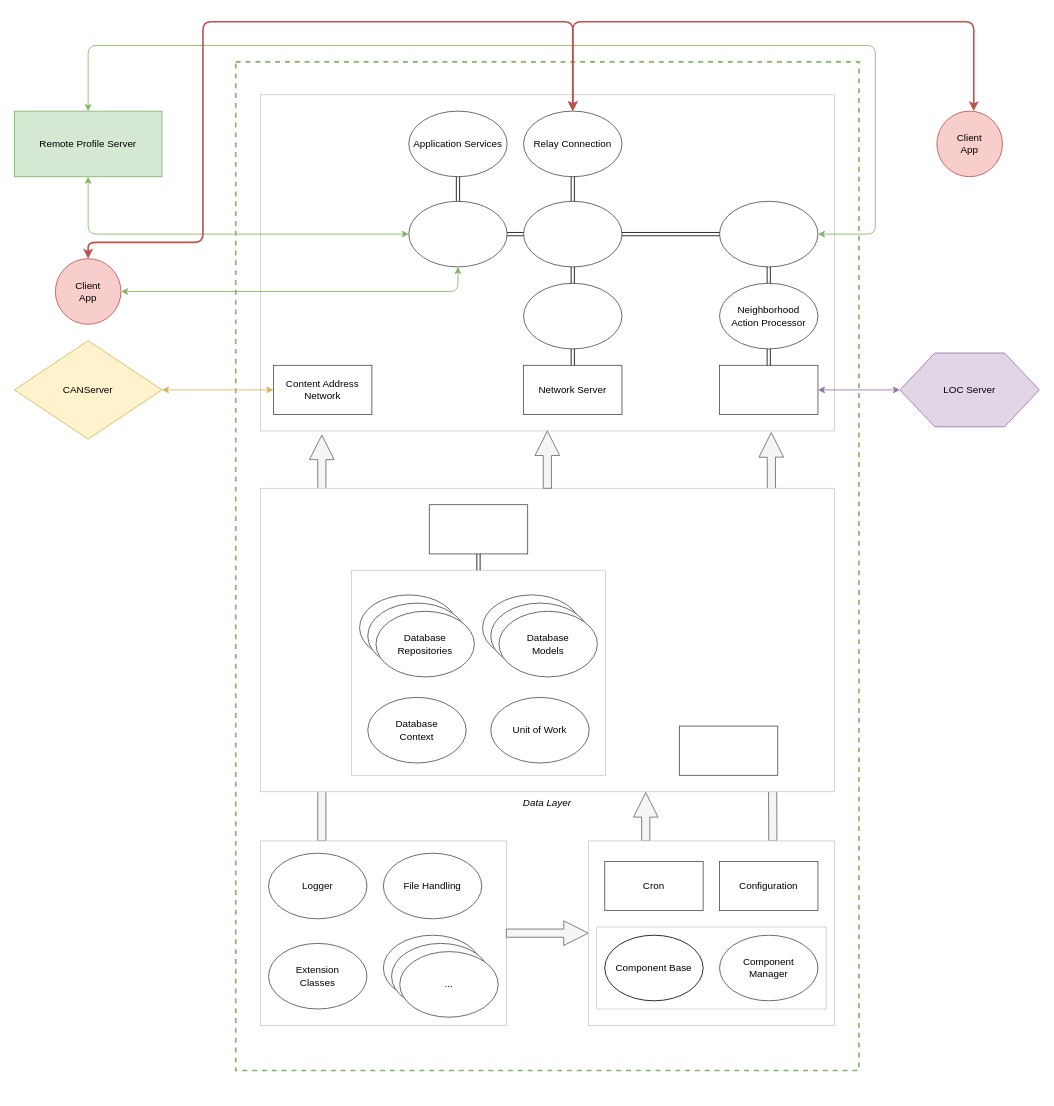
This 1054x1106 diagram has some shape labels left out. The shapes that lost their labels are listed below. From the top down, each one's box as (x1, y1, x2, y2) in pixels, then its label:
(408, 200, 507, 267): Incoming Client
(523, 200, 622, 267): Message Processor
(719, 200, 818, 267): Outgoing Client
(260, 94, 834, 431): Network Layer
(523, 282, 622, 349): TCP Role Server
(719, 364, 818, 415): Location Based Network
(428, 504, 528, 554): Database
(235, 61, 859, 1071): Profile Server
(679, 725, 778, 775): Image Manager
(260, 840, 506, 1025): Utility Layer
(588, 840, 834, 1025): Kernel Layer
